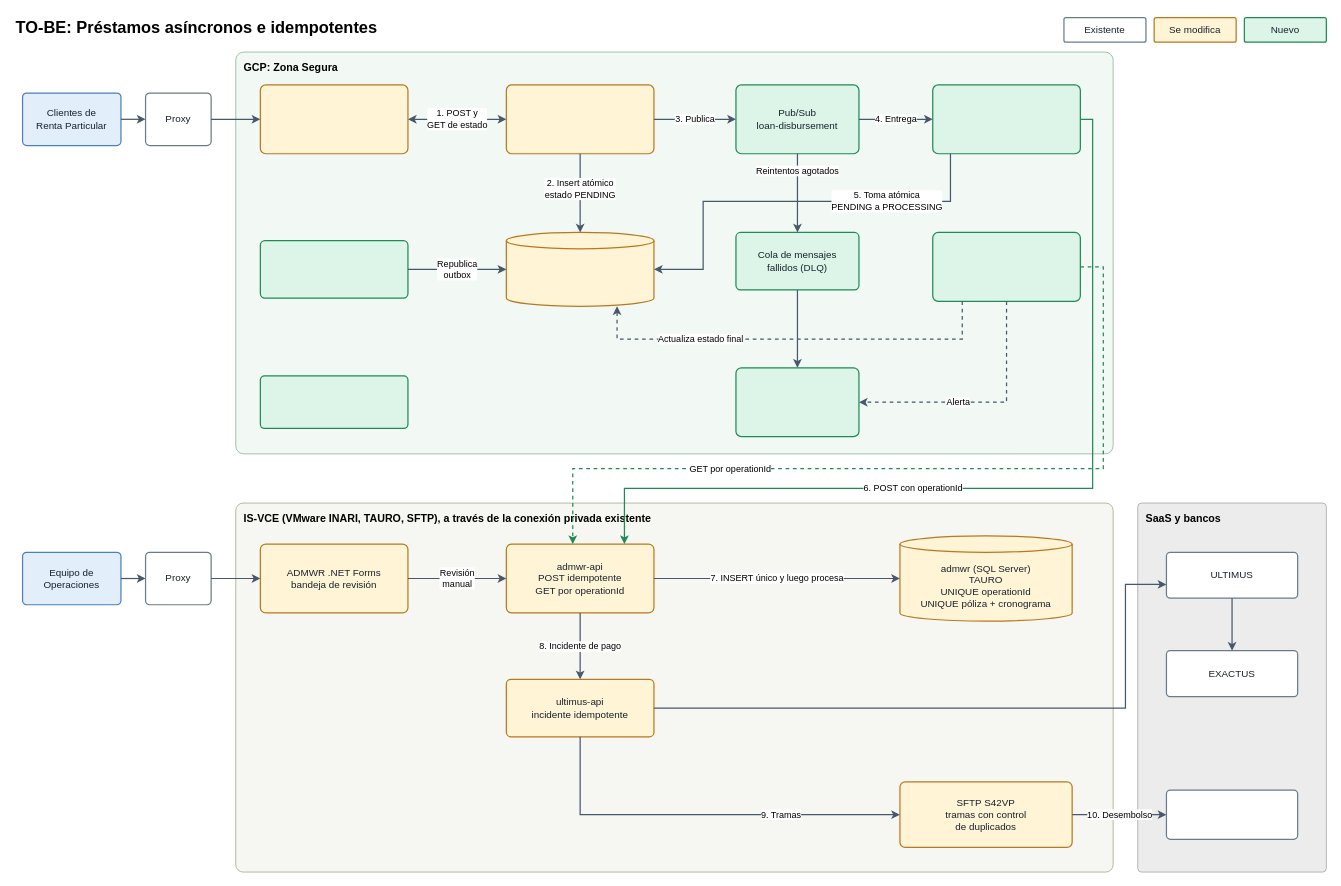
The diagram is 1341 pixels wide and 886 high, and some of its shapes have lost their labels. Each missing label, with the centre of its shape:
Cloud Monitoring alerta de UNKNOWN vencidos y DLQ: [797,402]
loan-worker Cloud Run concurrencia limitada: [1006,119]
outbox-sweeper Cloud Scheduler + Job: [333,269]
portal-db operaciones + outbox índice único: [579,269]
reconciler Cloud Scheduler + Job resuelve UNKNOWN: [1006,266]
Secret Manager e IAM por servicio: [333,402]
SFTP de bancos: [1231,814]
zona-segura-backend responde 202 y nunca llama a INARI: [579,119]
zona-segura-frontend muestra "en proceso" y consulta el estado: [333,119]
